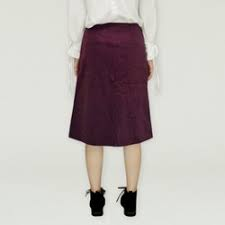C_skirt: (56, 33, 156, 149)
